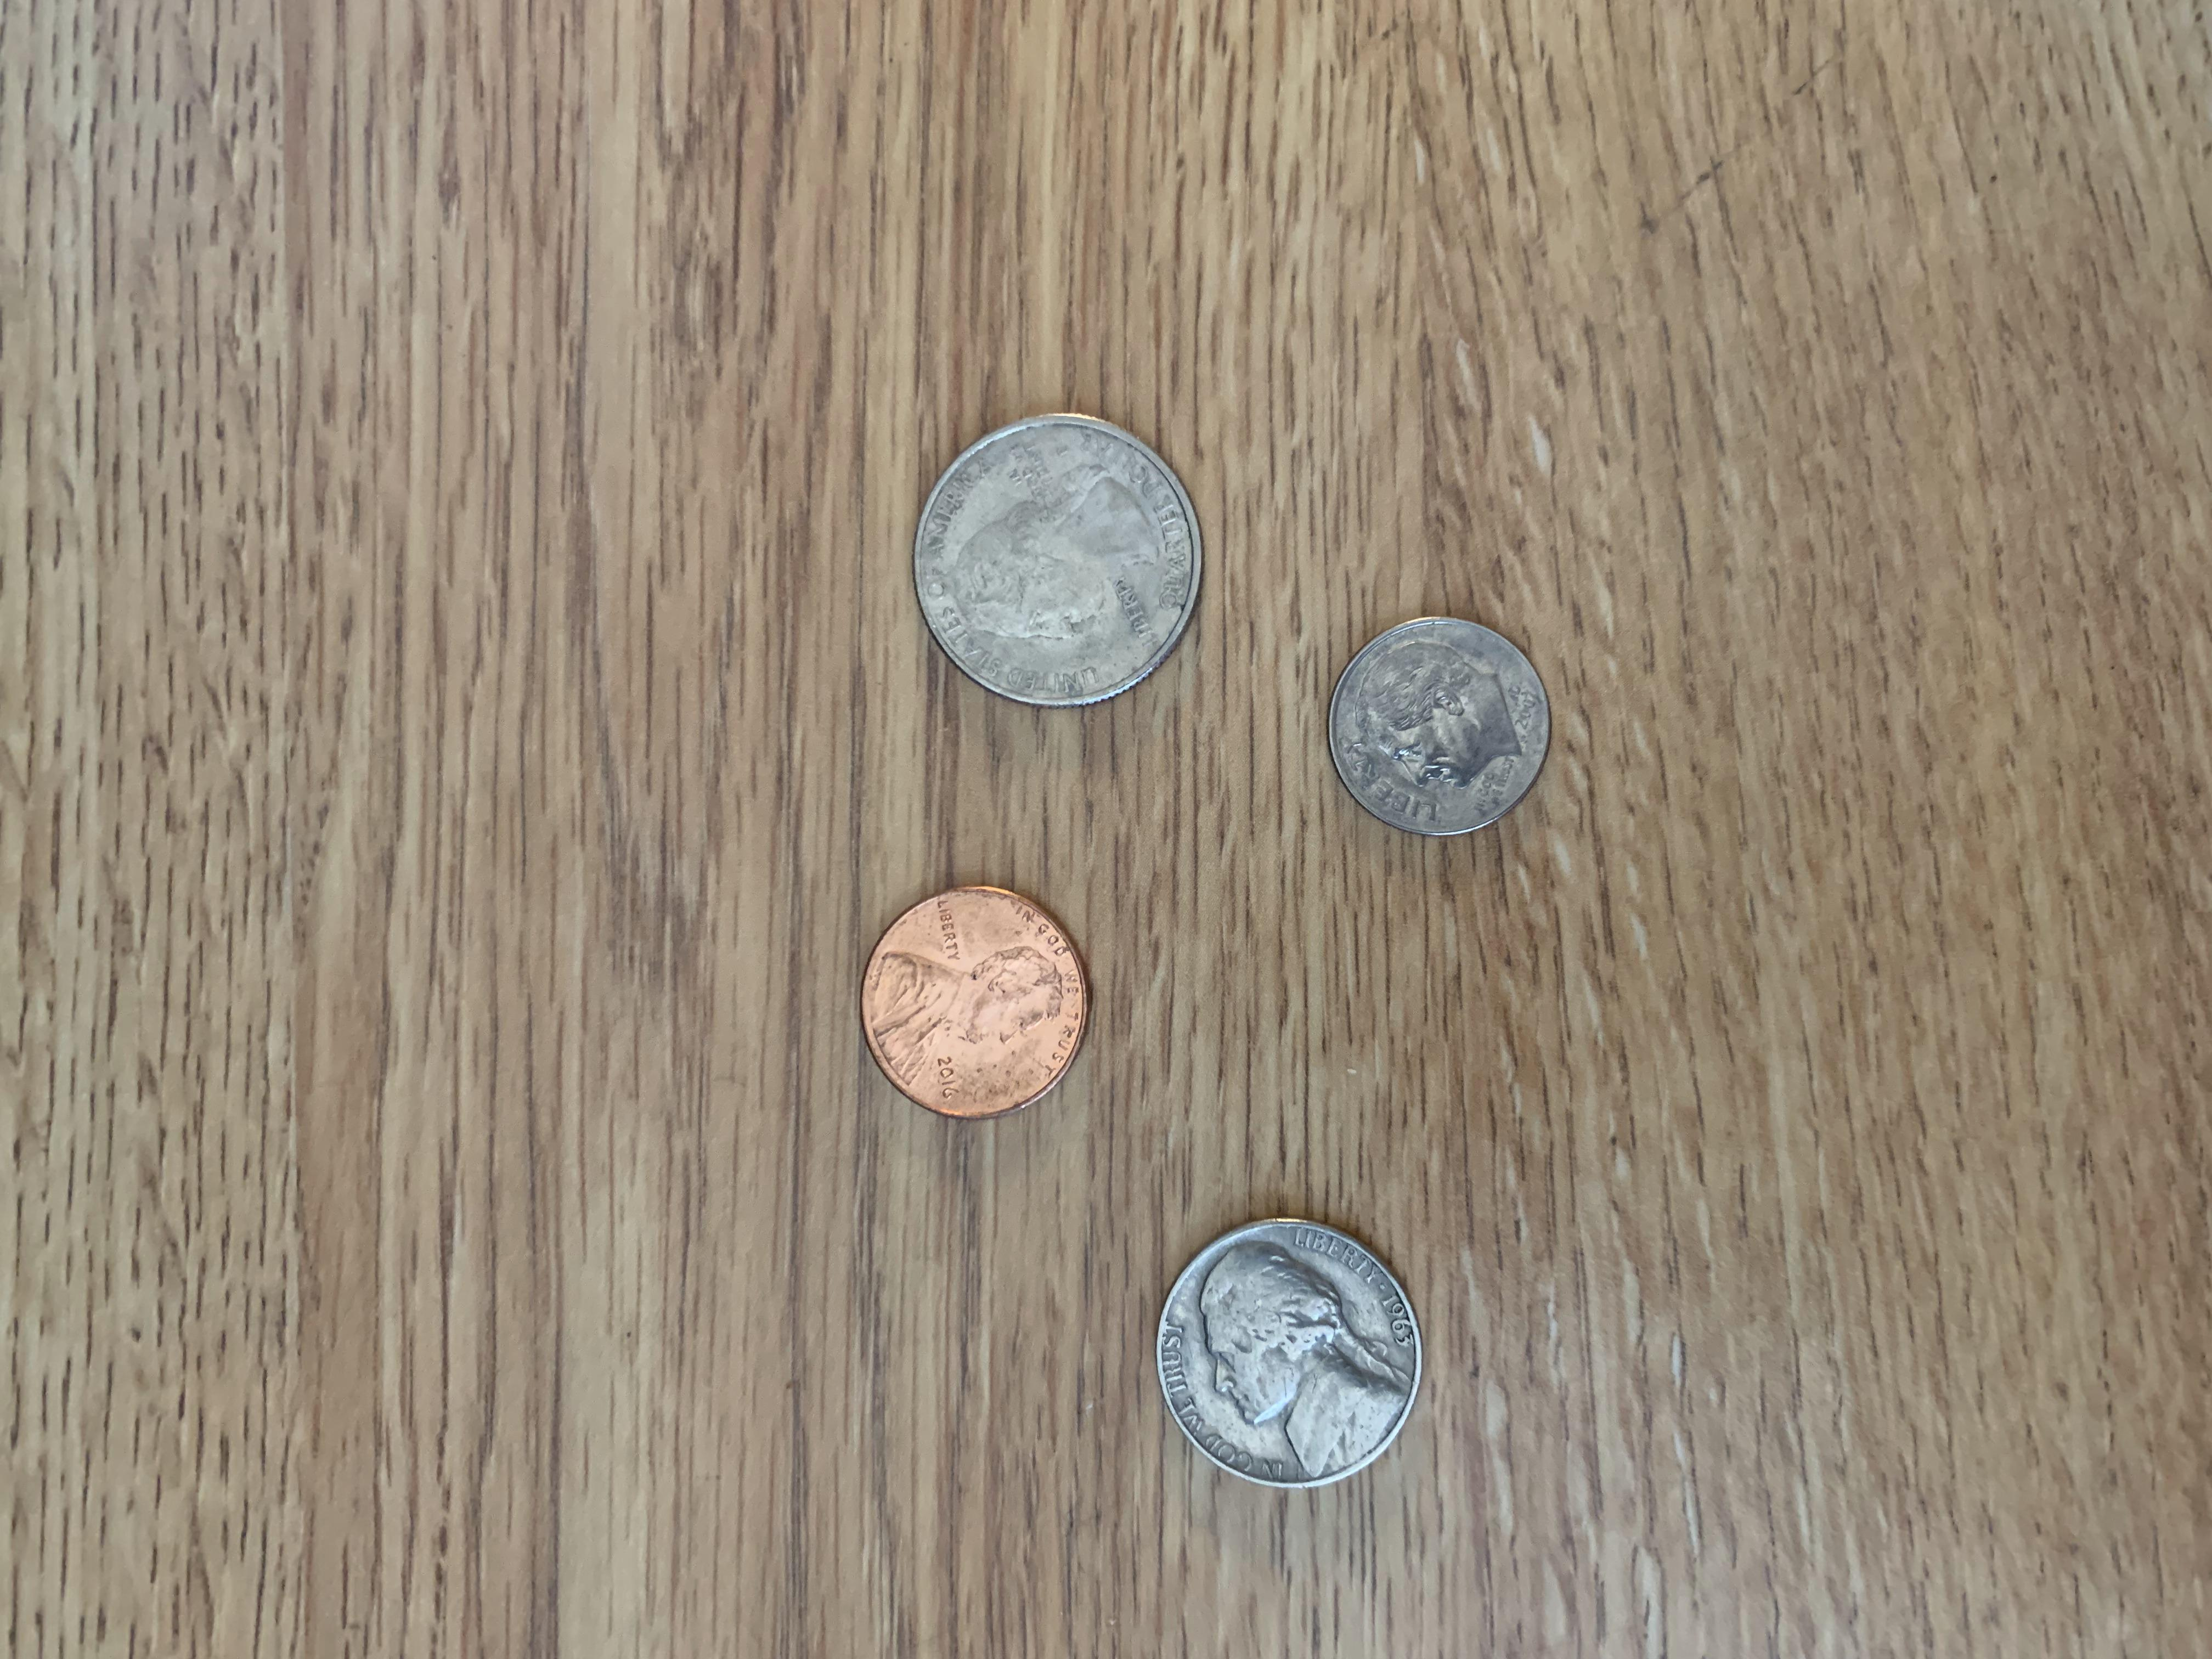Dime: (1312, 612, 1566, 847)
Nickel: (1146, 1209, 1440, 1500)
Penny: (846, 878, 1099, 1131)
Quarter: (894, 406, 1212, 718)
